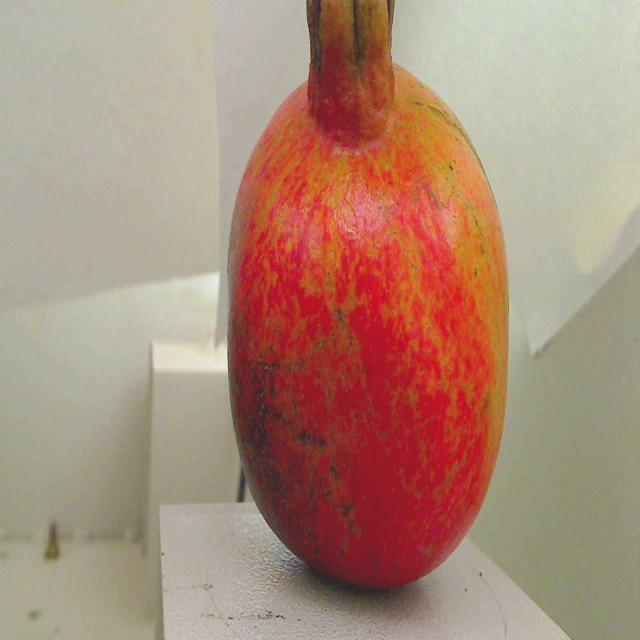pomegranate: (221, 0, 519, 616)
